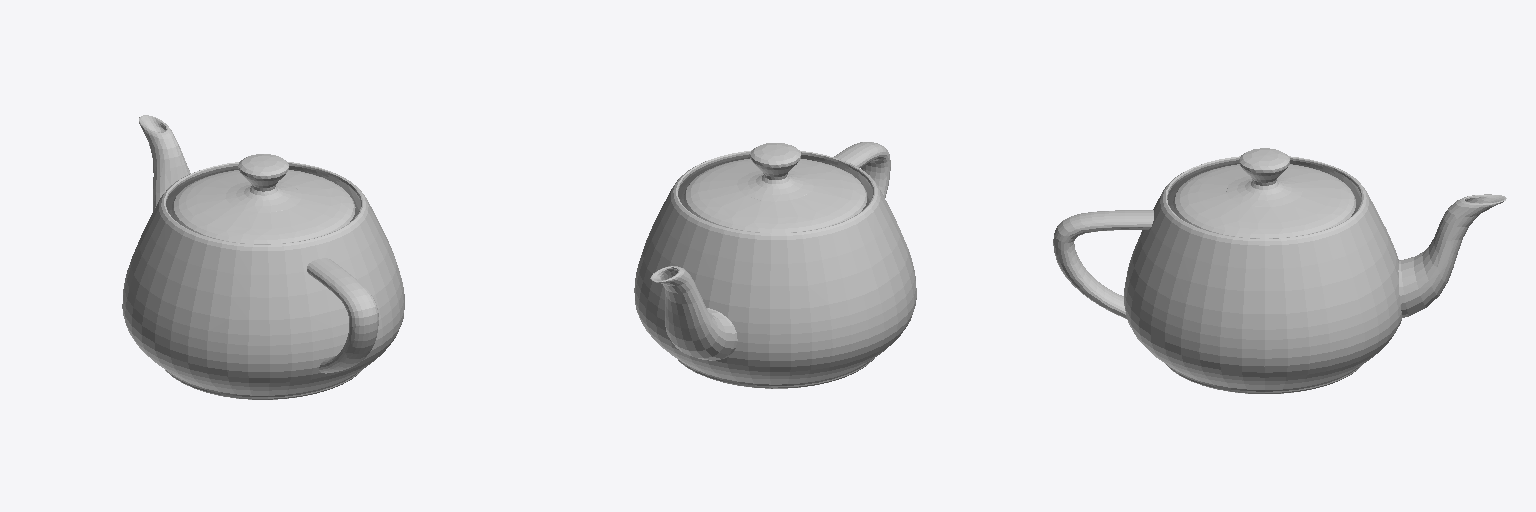
Rendered from teapot-triangulated.obj.
3 renders of one model, left to right at view 1: azimuth 30°, elevation 25°; view 2: azimuth 150°, elevation 25°; view 3: azimuth 270°, elevation 25°, orthographic.
Visible parts, largest first — view 1: teapot; view 2: teapot; view 3: teapot.
Part boxes in pixels (left/top/right/bottom): teapot: left=122, top=115, right=404, bottom=399; teapot: left=634, top=142, right=916, bottom=388; teapot: left=1053, top=148, right=1506, bottom=393.
Bounding box in the file's own units: 4 × 3.15 × 6.43.